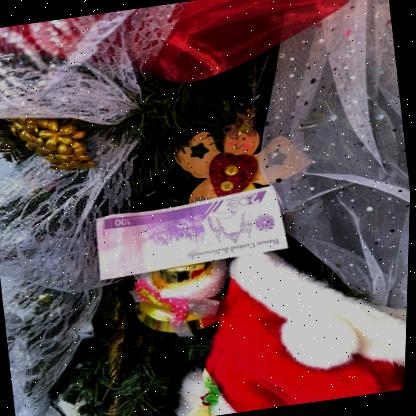one_hundred-back-vef: (92, 182, 291, 280)
